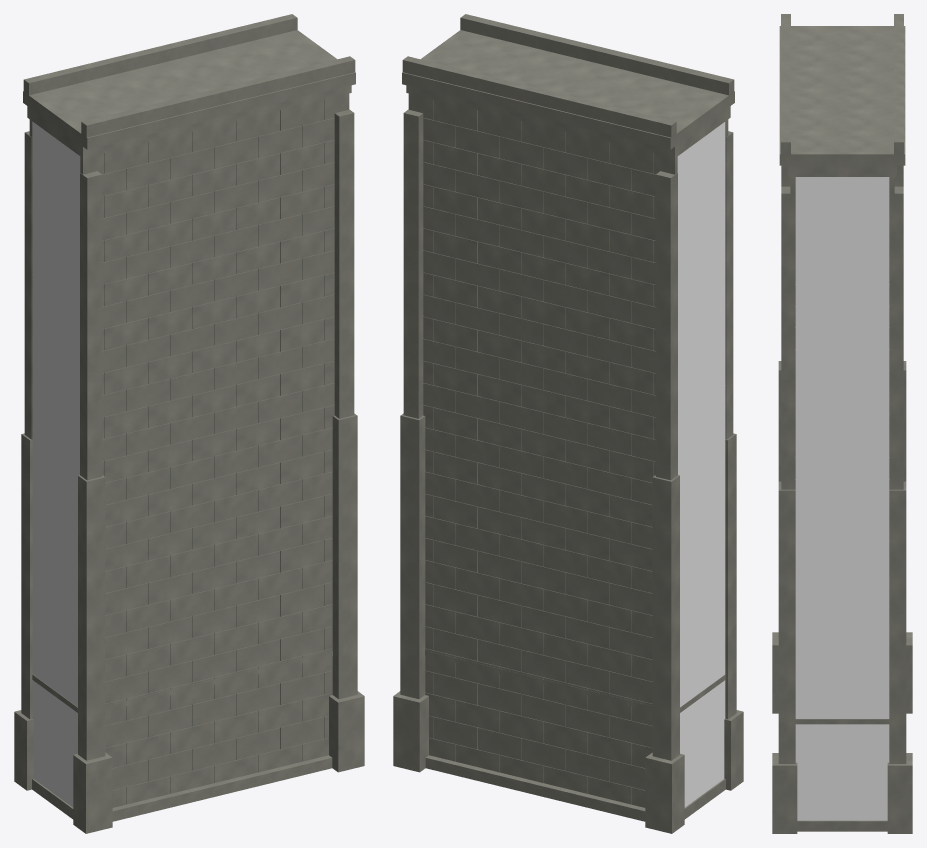
File: GF2_Wall_Straight_24x60_LOD1.fbx
3 renders of one model, left to right at view 1: azimuth 30°, elevation 25°; view 2: azimuth 150°, elevation 25°; view 3: azimuth 270°, elevation 25°, orthographic. The views are drawn at different scales.
Visible parts, largest first — view 1: GF2_Wall_Straight_24x60_LOD1; view 2: GF2_Wall_Straight_24x60_LOD1; view 3: GF2_Wall_Straight_24x60_LOD1.
Part boxes in pixels (x1,y1,x2,y2): GF2_Wall_Straight_24x60_LOD1: (14, 14, 364, 833); GF2_Wall_Straight_24x60_LOD1: (393, 14, 743, 833); GF2_Wall_Straight_24x60_LOD1: (772, 14, 912, 833).
Bounding box in the file's own units: 25.1 × 60.55 × 11.2.
